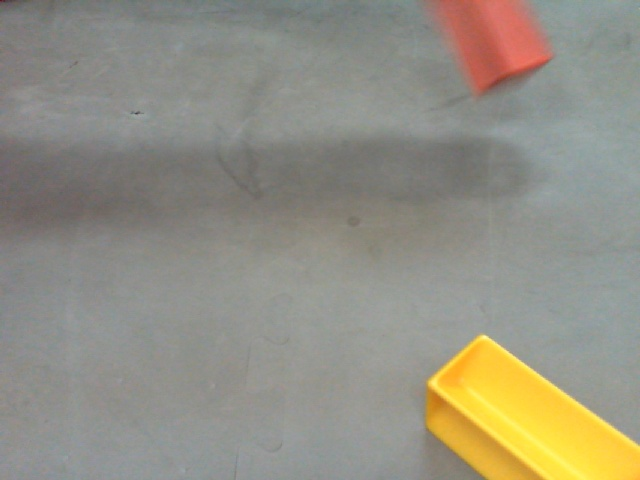RedSample: (438, 1, 550, 102)
YellowSample: (427, 334, 637, 480)
